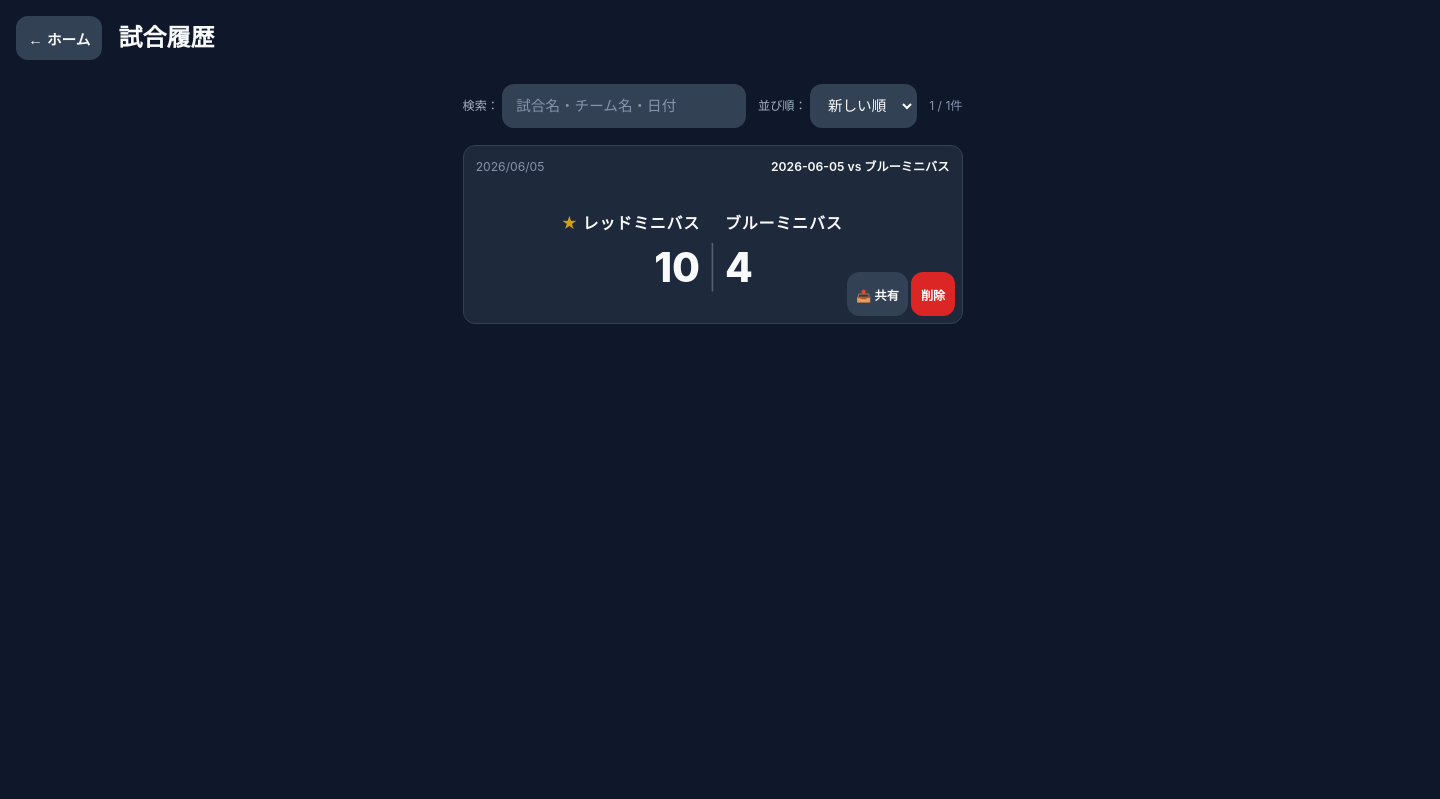
Test case: 履歴詳細のタブ › 自動生成された試合名（日付 vs 対戦相手）では見出しの日付が重ならない
This screenshot has width=1440, height=799.
Click the button "2026/06/05 2026-06-05 vs ブルーミニバス ★ レッドミニバス 10 | ブルーミニバス 4". click: (510,166)
box: [476,158,949,311]
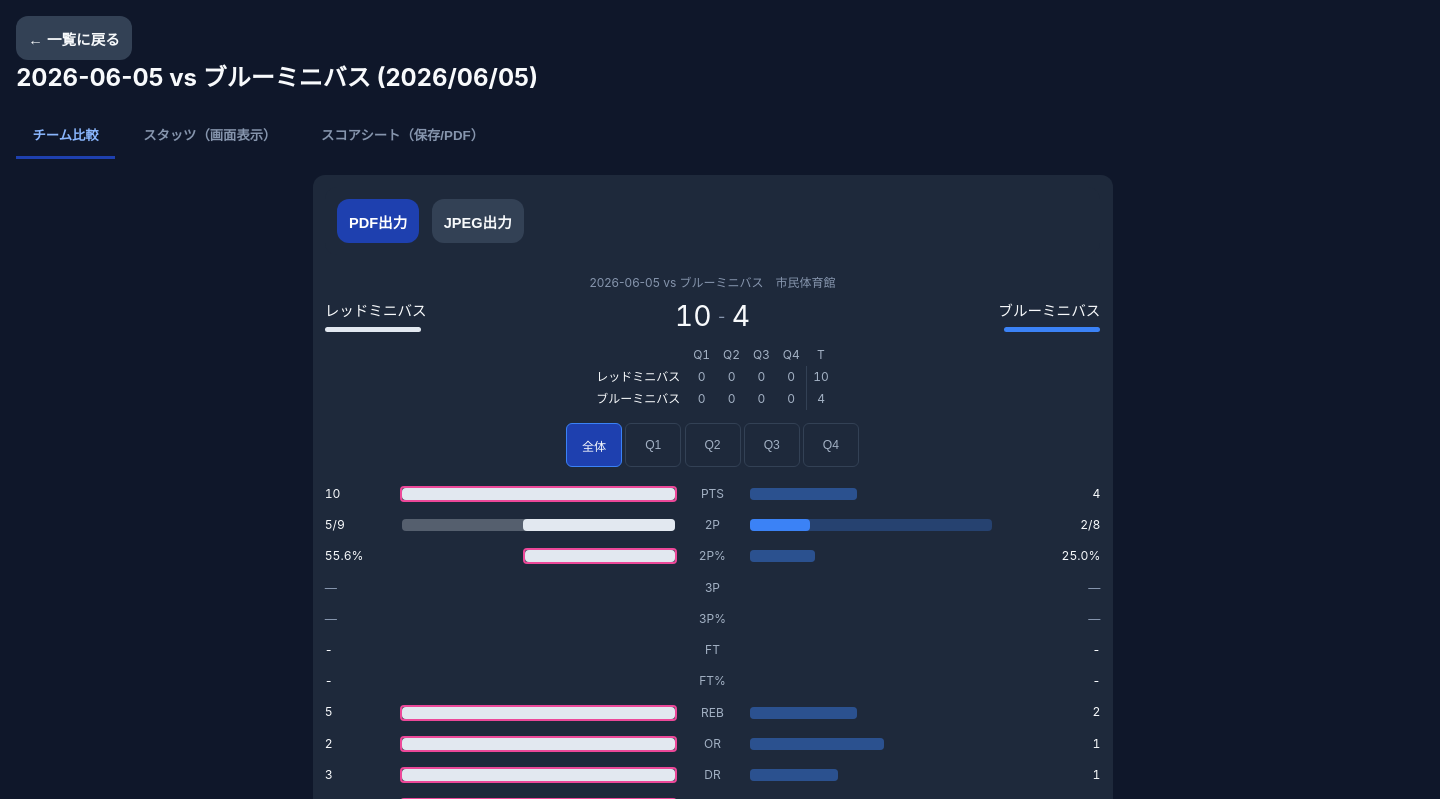
Check: the text with class "comparison-caption" reads "2026-06-05 vs ブルーミニバス 市民体育館", box [589,275,836,290]
